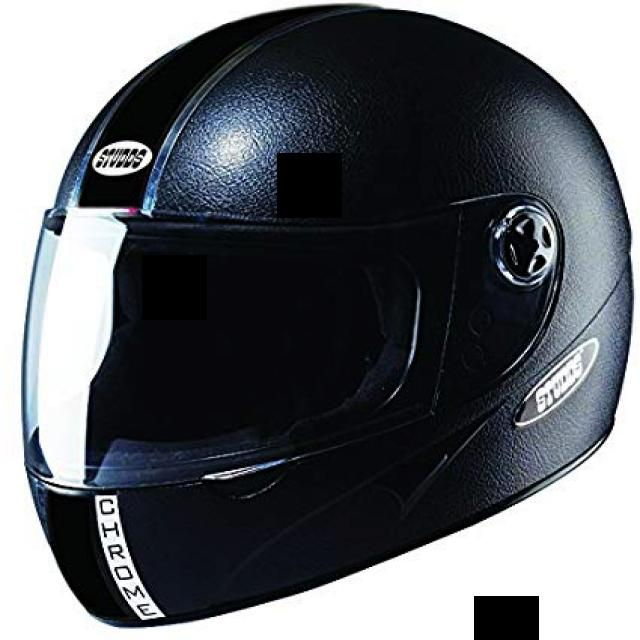Helmet: (24, 5, 628, 624)
